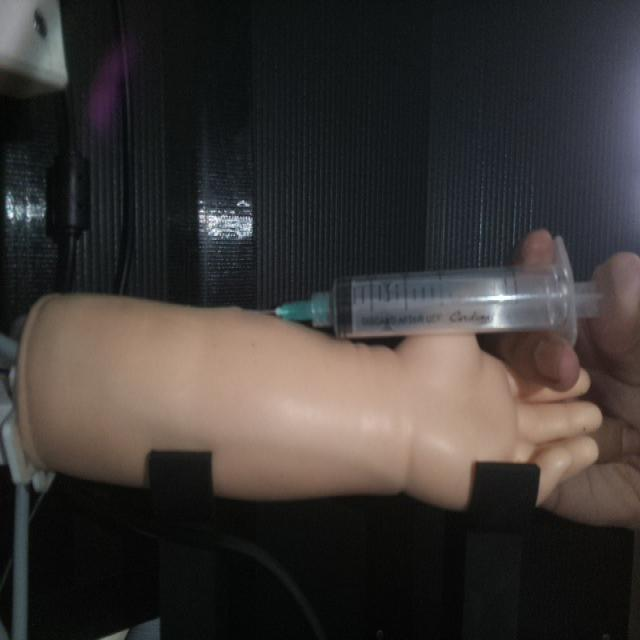Outside: (249, 233, 617, 347)
